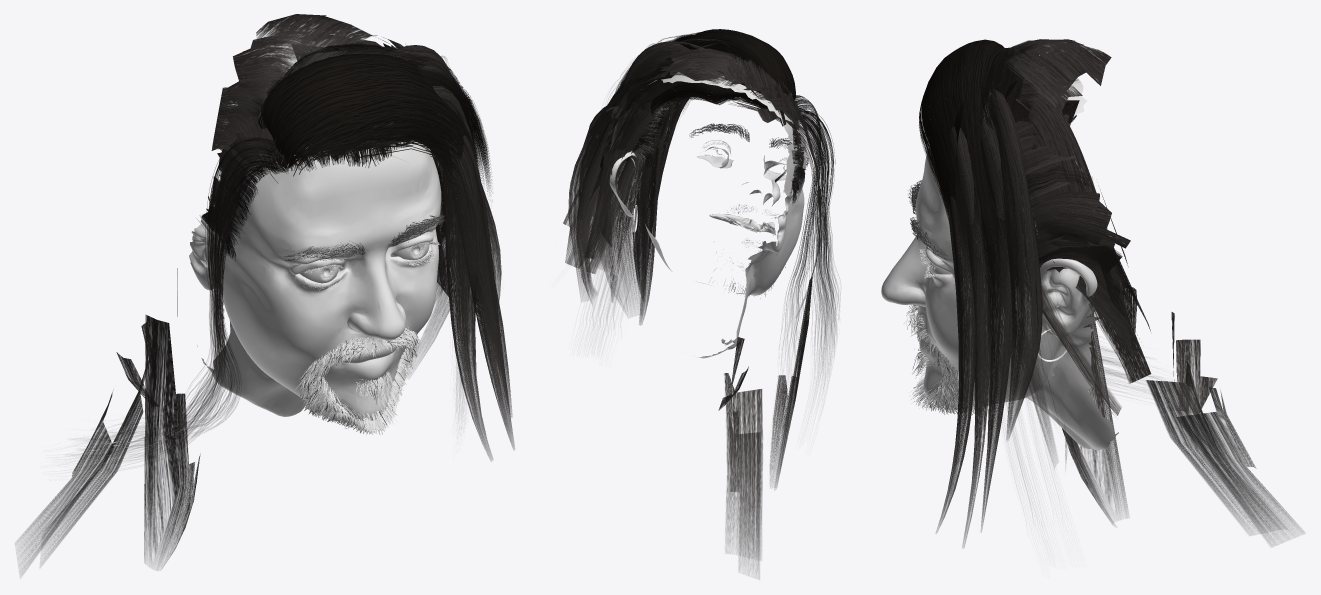
The model's file is optgueul.glb.
3 views of the same model, side by side, from view 1: azimuth 30°, elevation 25°; view 2: azimuth 150°, elevation 25°; view 3: azimuth 270°, elevation 25° (orthographic). The views are drawn at different scales.
Visible parts, largest first — view 1: NurbsPath.031, Head2.001, Mesh.002, Sphere1.003; view 2: NurbsPath.031, Head2.001, Mesh.002; view 3: NurbsPath.031, Head2.001, Mesh.002.
Part boxes in pixels (x1,y1,x2,y2): NurbsPath.031: (15,14,514,575); Head2.001: (189,43,441,421); Mesh.002: (284,215,444,434); Sphere1.003: (299,243,429,283); NurbsPath.031: (563,29,839,579); Head2.001: (609,72,806,358); Mesh.002: (689,123,808,298); NurbsPath.031: (919,39,1304,547); Head2.001: (881,79,1118,450); Mesh.002: (904,180,983,415).
Size of the model in its own units: 3.44 by 4.85 by 3.09.
Materials: 4 (3 with a texture image).
